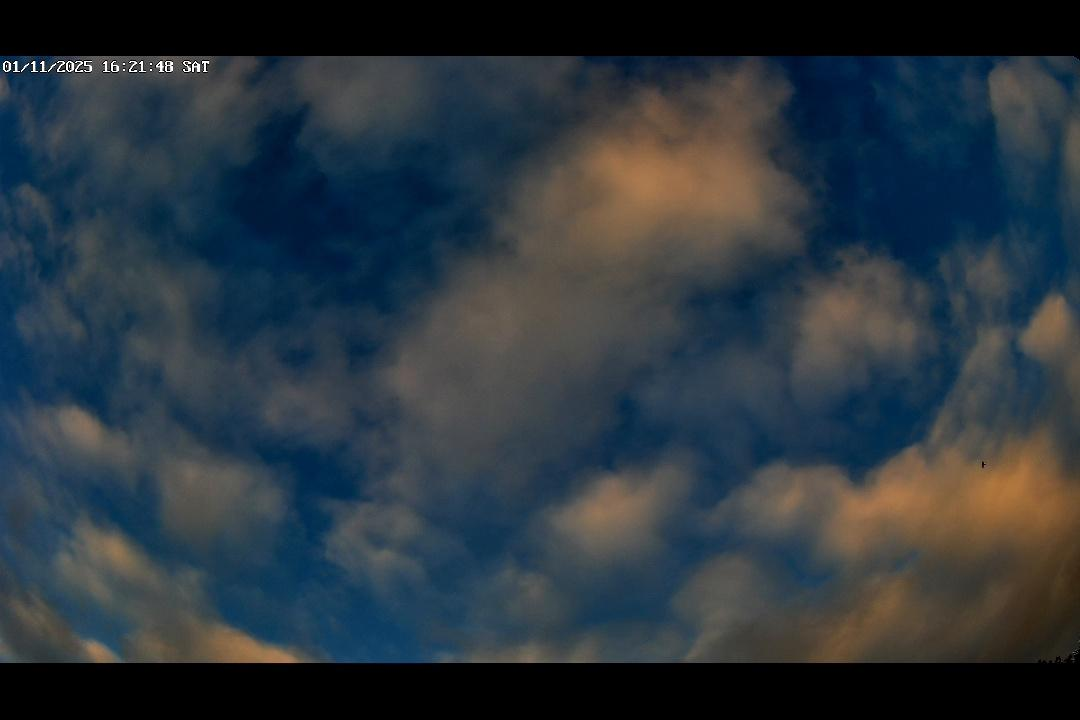WildLife: (977, 458, 989, 472)
